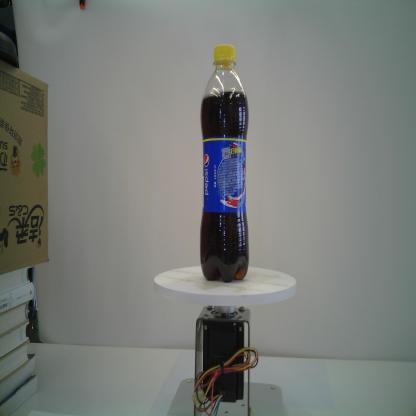Drink: (198, 42, 250, 284)
